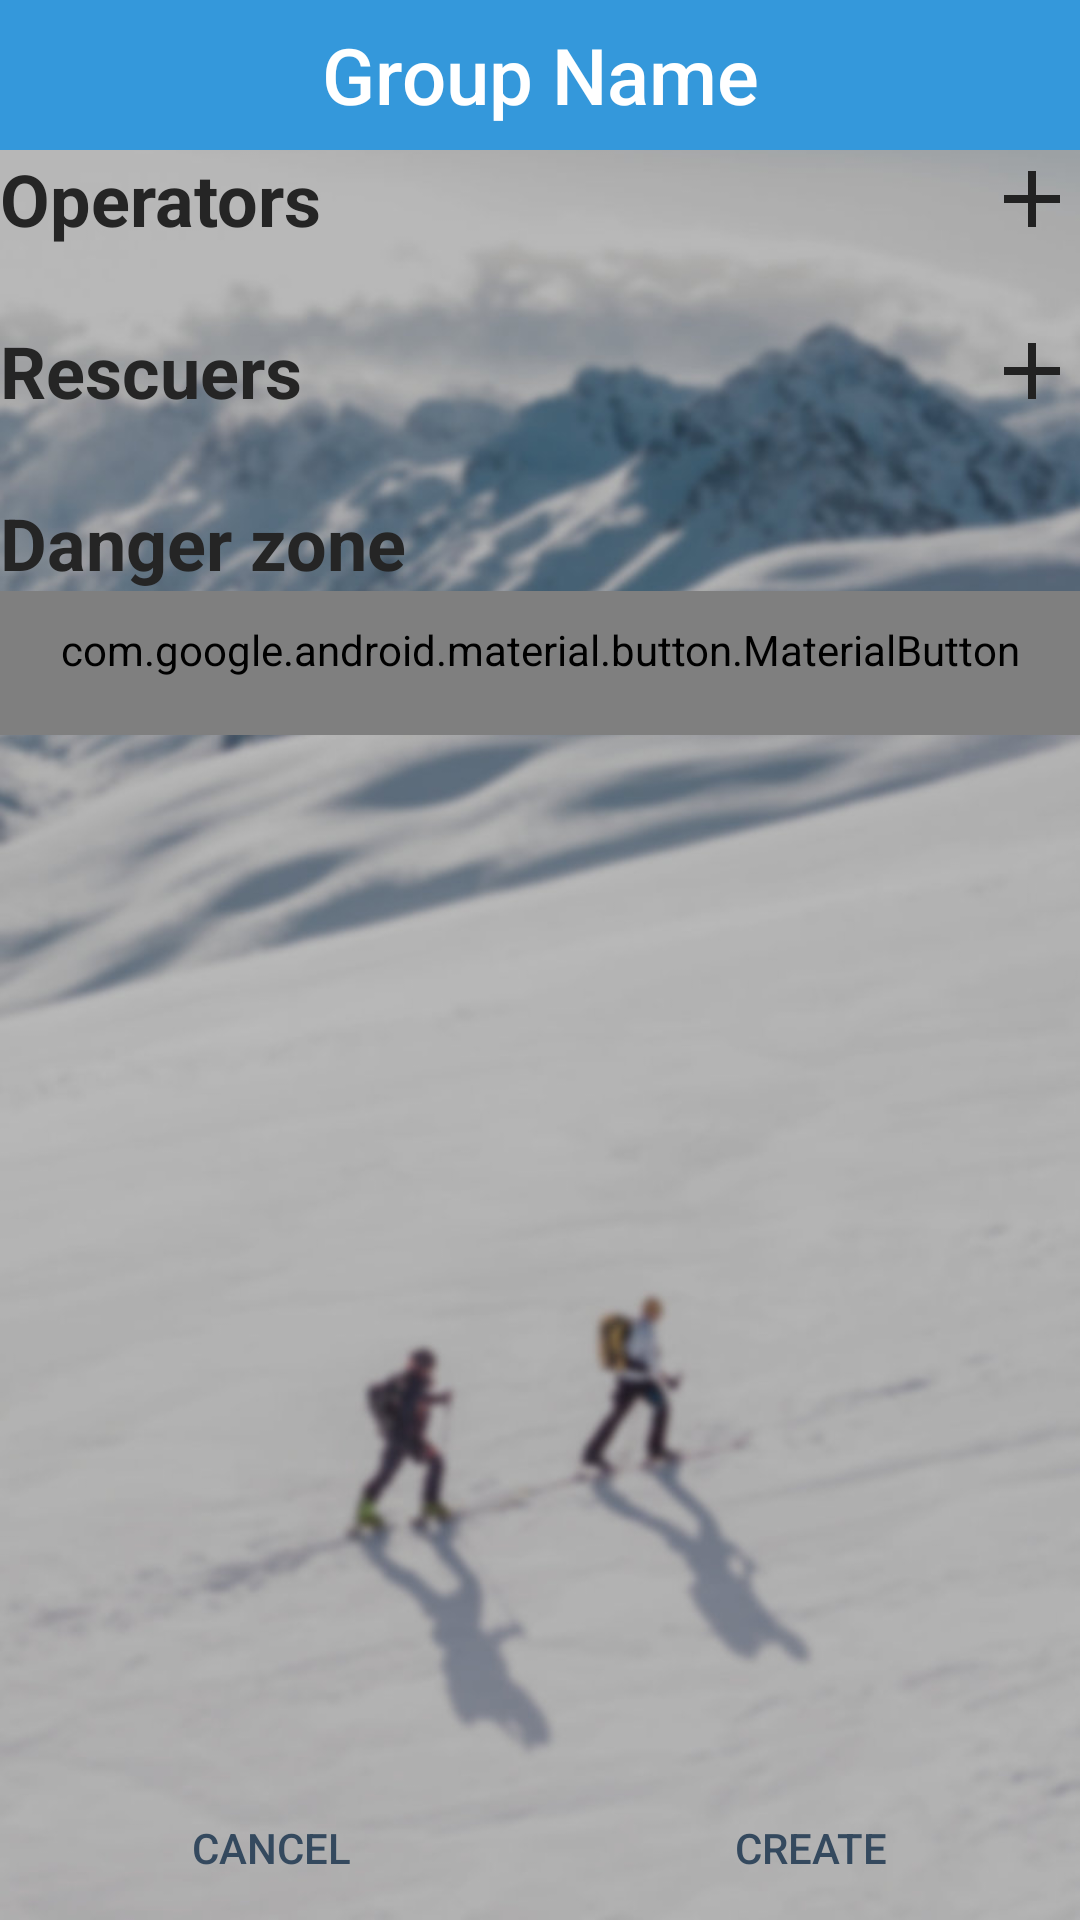

Point at icon controls on the screen. Image size 1080px×1920px, points as point (x, y).
add: point (1032, 199), point (1032, 371)
